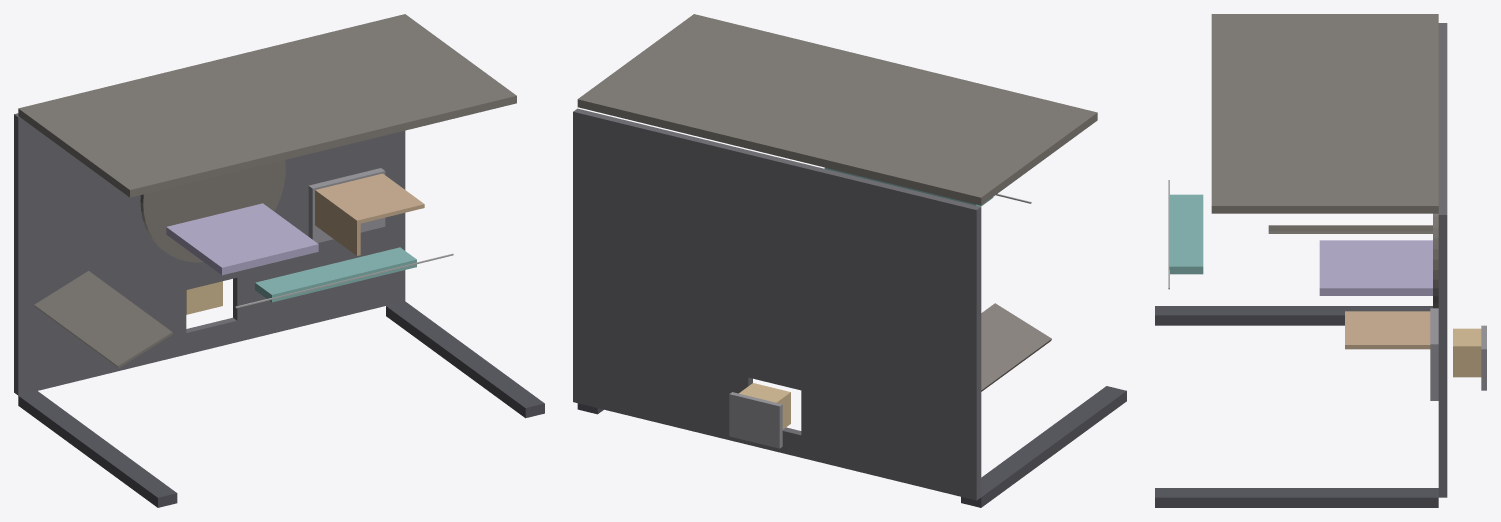
File: test-set.glb
The picture shows the model from 3 angles, left to right: view 1: azimuth 30°, elevation 25°; view 2: azimuth 150°, elevation 25°; view 3: azimuth 270°, elevation 25°; orthographic projection. The views are drawn at different scales.
Parts seen in each view (by area): view 1: Back wall, Deck US, Deck DS, SR masking flat, Revolve wall, Revolve deck, Pros leg SR, Pros leg SL, Deck SR, Deck SL, Header, Wagon wall run (+3 smaller); view 2: Deck US, Back wall, Deck DS, Deck SR, Deck SL, Pros leg SR, SR masking flat, Lift platform, Lift riser; view 3: Back wall, Revolve wall, Pros leg SL, Pros leg SR, Deck US, Wagon wall run, Header, SR masking flat, Lift riser, Wagon deck, Revolve deck, Deck SL (+1 smaller).
Boxes of the visible parts, x1,y1,x2,y2 form: Back wall: [18, 14, 516, 197]; Deck US: [14, 113, 405, 330]; Deck DS: [14, 280, 405, 395]; SR masking flat: [34, 271, 172, 367]; Revolve wall: [166, 203, 318, 275]; Revolve deck: [140, 160, 285, 262]; Pros leg SR: [18, 391, 177, 507]; Pros leg SL: [386, 301, 544, 418]; Deck SR: [14, 290, 186, 373]; Deck SL: [233, 237, 405, 320]; Header: [255, 247, 416, 302]; Wagon wall run: [315, 173, 424, 224]; Deck US: [573, 108, 981, 433]; Back wall: [577, 14, 1097, 205]; Deck DS: [573, 379, 981, 500]; Deck SR: [801, 390, 981, 477]; Deck SL: [573, 335, 752, 417]; Pros leg SR: [961, 386, 1126, 507]; SR masking flat: [981, 303, 1051, 391]; Lift platform: [729, 392, 782, 448]; Lift riser: [739, 383, 790, 429]; Back wall: [1211, 14, 1438, 213]; Revolve wall: [1319, 240, 1432, 295]; Pros leg SL: [1155, 488, 1438, 507]; Pros leg SR: [1155, 306, 1432, 325]; Deck US: [1438, 23, 1447, 431]; Wagon wall run: [1345, 311, 1430, 348]; Header: [1169, 194, 1203, 274]; SR masking flat: [1268, 225, 1432, 233]; Lift riser: [1453, 328, 1481, 377]; Wagon deck: [1430, 308, 1438, 400]; Revolve deck: [1433, 213, 1438, 308]; Deck SL: [1438, 432, 1447, 475].
Bounding box in the file's own units: 16000 × 11750 × 11700.
